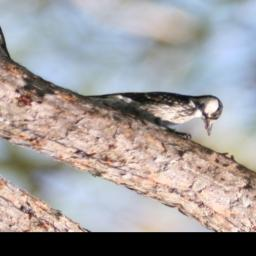Woodpecker: (78, 49, 239, 152)
